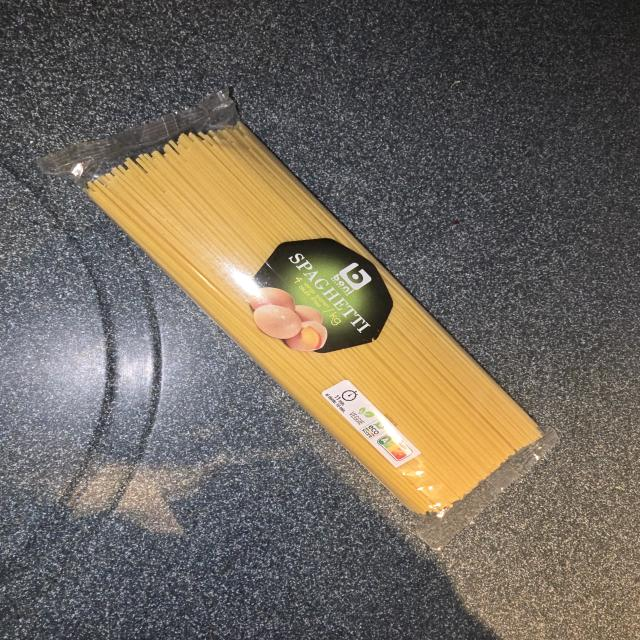Pasta: (84, 122, 556, 544)
